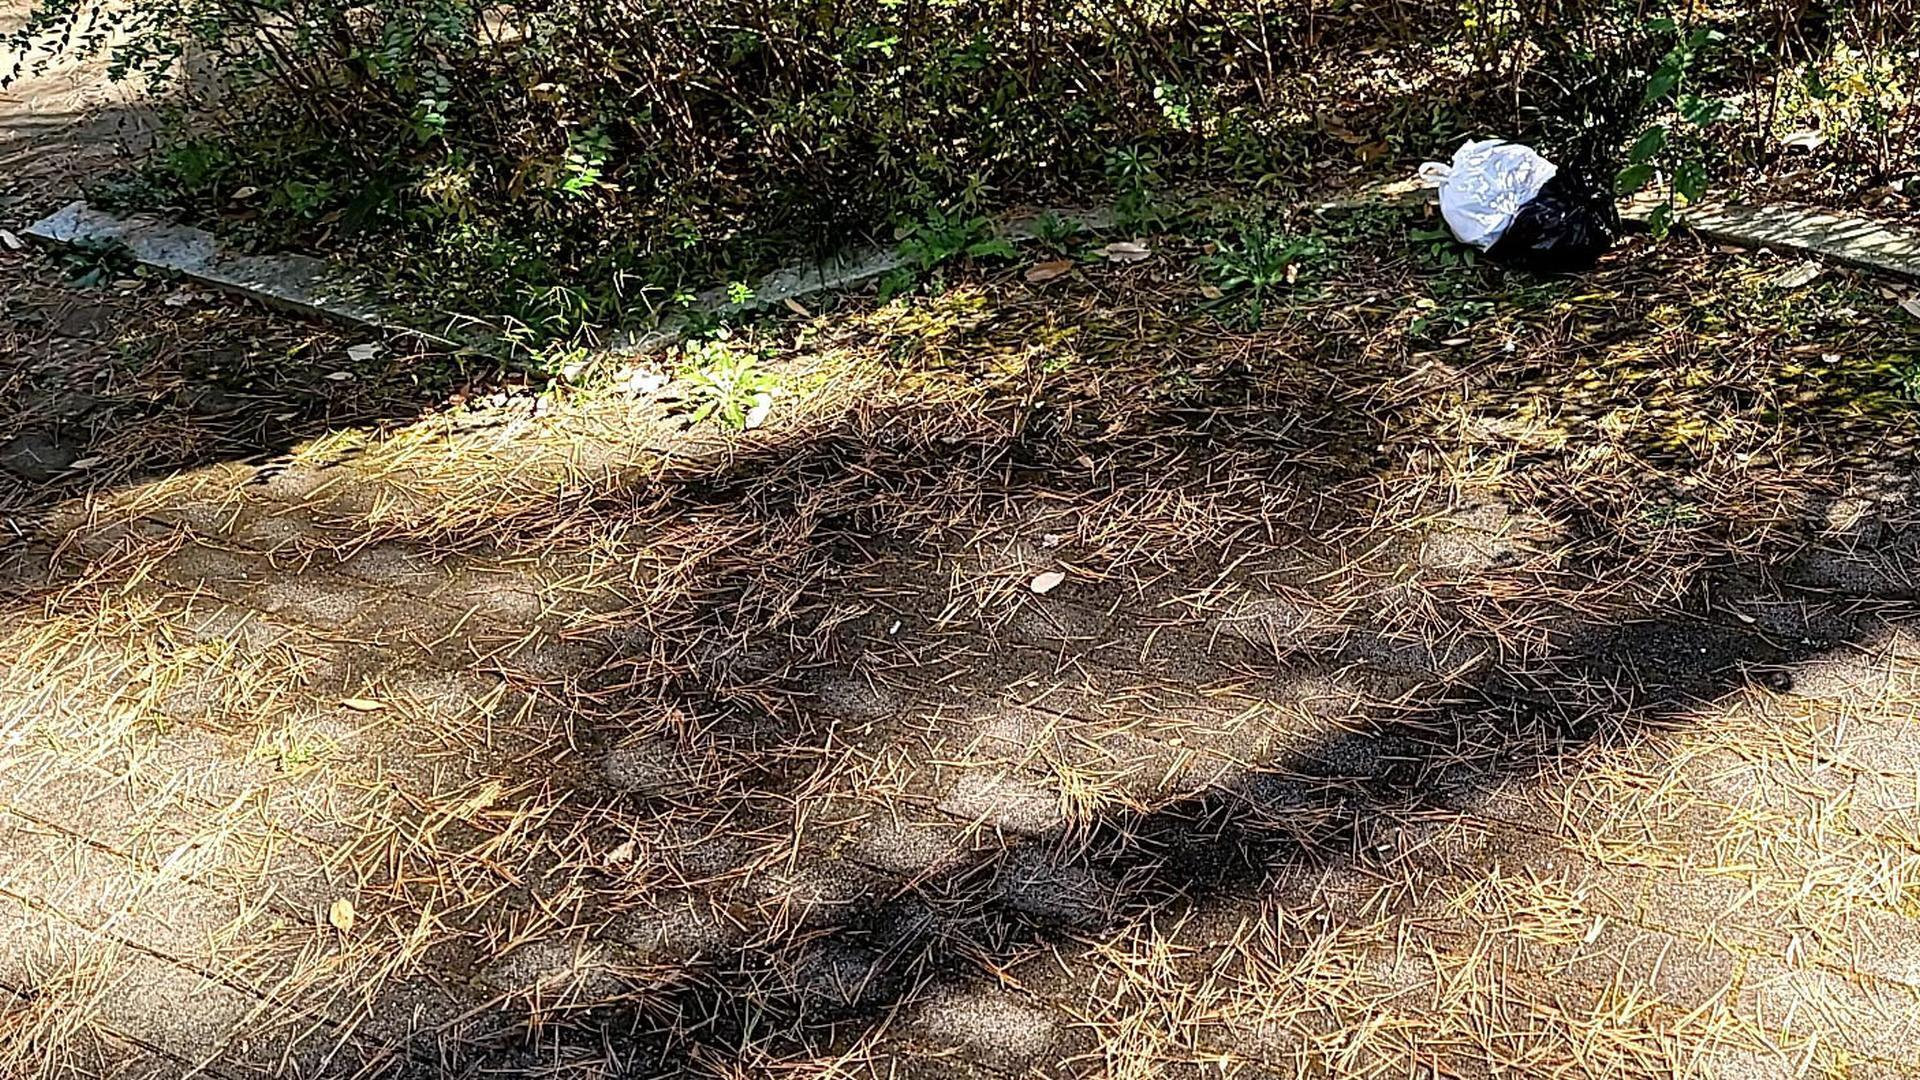black_bag: (1495, 161, 1622, 276)
white_bag: (1418, 132, 1557, 240)
